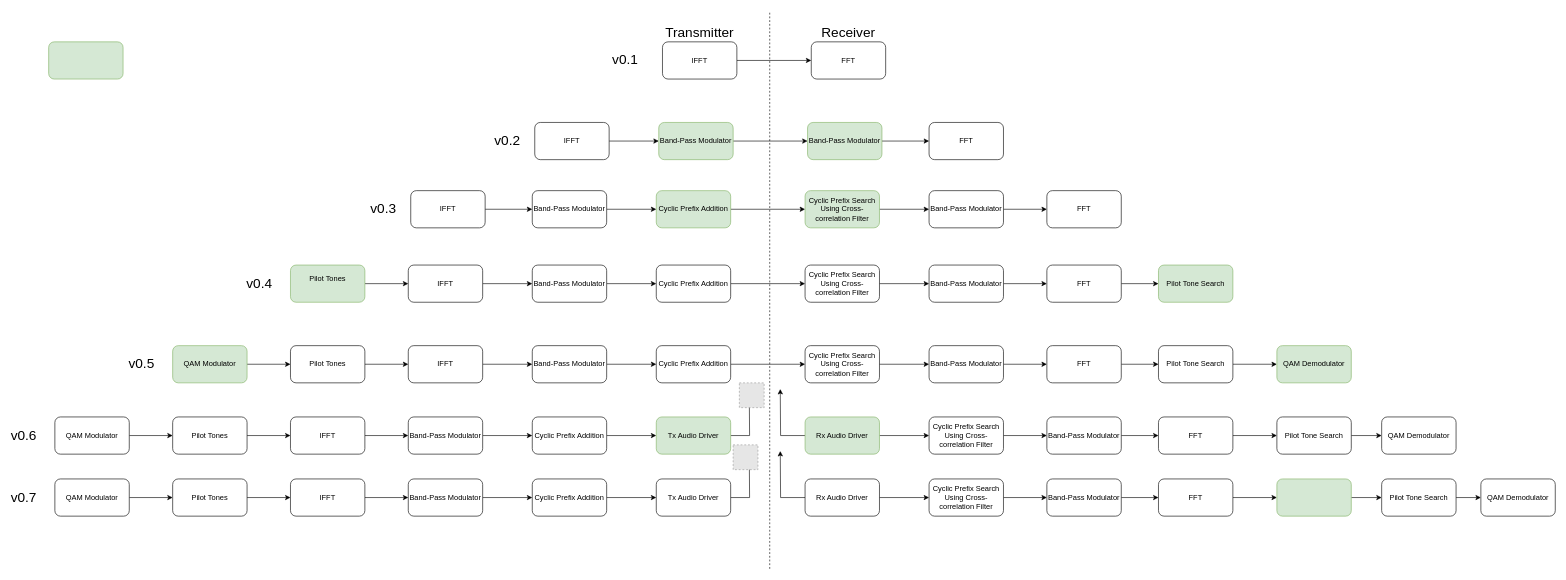
The diagram is 1566 pixels wide and 580 high, and some of its shapes have lost their labels. Grey dashed boxes stand in for pictures. Here are the shapes that lost their labels. From the top down, the centre of each, then its label:
At pixel 85 60: "New Feature".
At pixel 1313 497: "Phase Correction".
